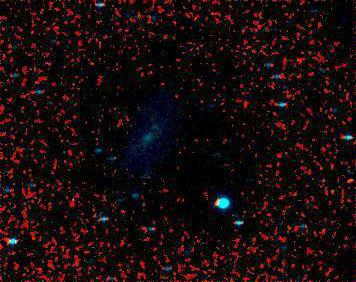star: (335, 168, 356, 198)
